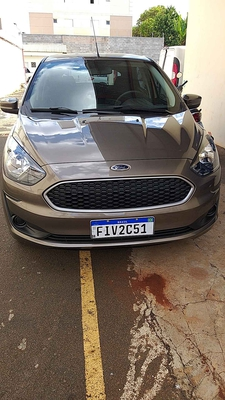Frontal Veiculo: (2, 55, 224, 250)
